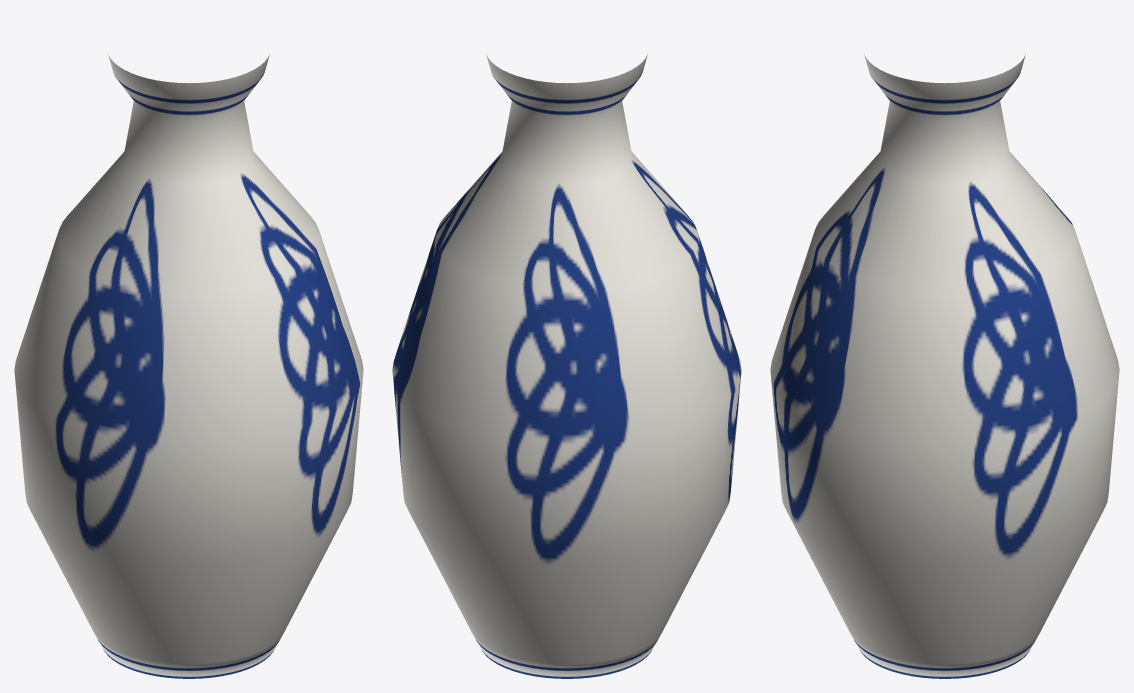
The model's file is binh-gom-lam.glb.
3 views of the same model, side by side, from view 1: azimuth 30°, elevation 25°; view 2: azimuth 150°, elevation 25°; view 3: azimuth 270°, elevation 25° (orthographic).
Parts seen in each view (by area): view 1: BinhGom; view 2: BinhGom; view 3: BinhGom.
Boxes of the visible parts, bbox=[...] form: BinhGom: bbox=[14, 54, 363, 678]; BinhGom: bbox=[392, 54, 741, 678]; BinhGom: bbox=[770, 54, 1119, 678].
Bounding box in the file's own units: 0.64 × 1.2 × 0.64.
1 material, 1 textured.
